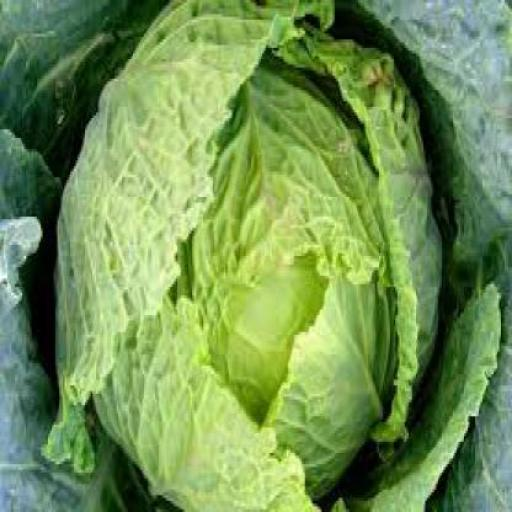biodegradable: (1, 2, 511, 511), (44, 2, 447, 511)
